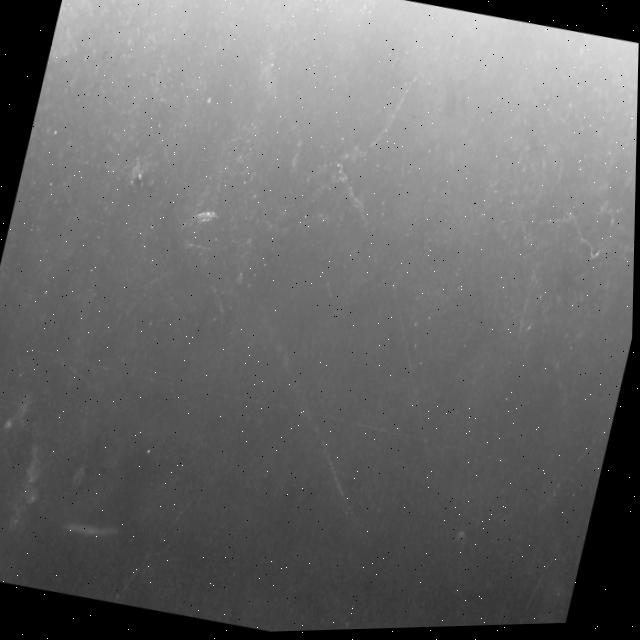beta: (217, 298, 398, 520), (470, 193, 611, 415), (352, 276, 471, 464), (113, 479, 202, 615), (528, 402, 617, 535), (519, 490, 597, 628), (358, 59, 425, 171), (41, 350, 104, 390), (53, 0, 85, 32)
